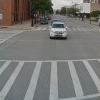Crosswalk: (4, 54, 94, 99)
